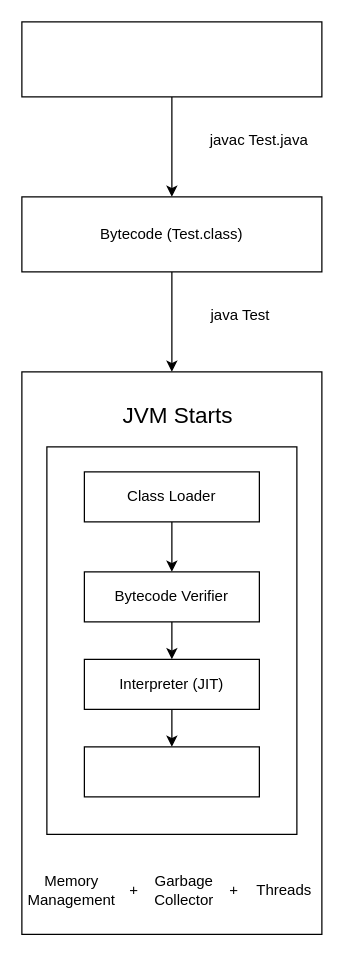
Some shapes in this 344 by 956 pixel diagram are drawn without their labels. Here are the shapes that lost their labels. From the top down, the box of each, then its label:
(21, 21, 322, 97): Source Code (Test.java)
(83, 746, 259, 797): Execution Engine
